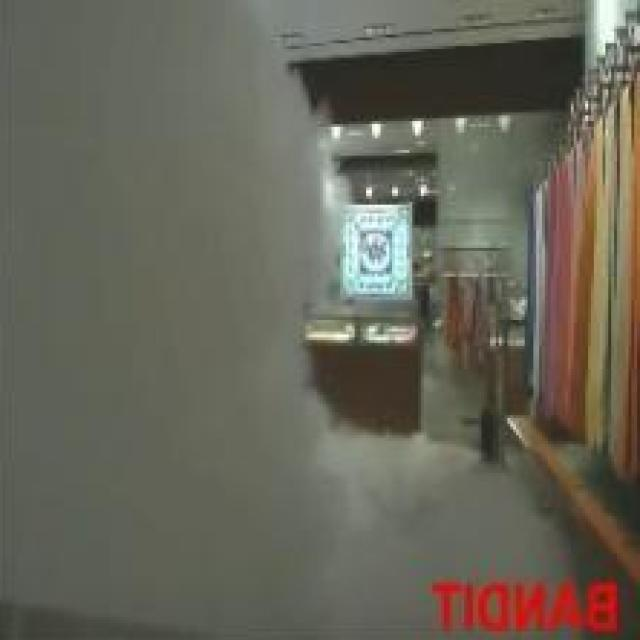fire: (0, 0, 335, 447), (0, 415, 591, 640)
